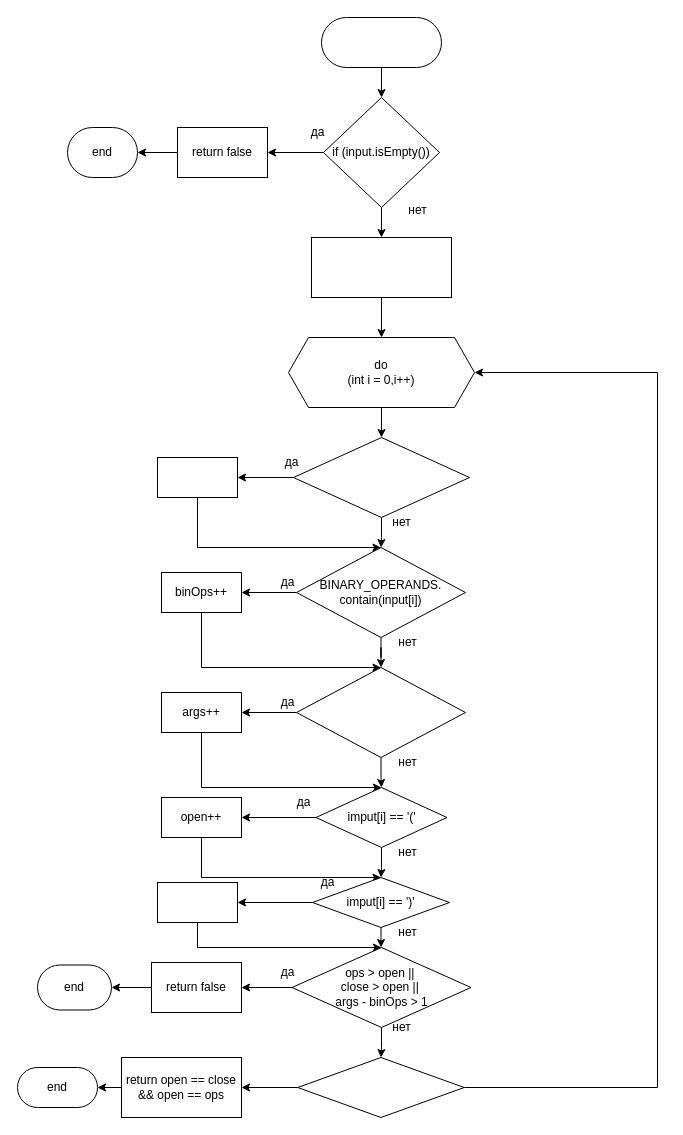
The diagram is 683 pixels wide and 1135 high, and some of its shapes have lost their labels. The shapes that lost their labels are listed below. From the top down, each one's centre as x and y in pixels, then its label:
(x=381, y=42): begin
(x=381, y=267): int open = 0, close = 0, ops = 0, binOps = 0, args = 0
(x=197, y=477): ops++
(x=381, y=477): ALL_OPERATORS. contain(input[i])
(x=381, y=712): ARGUMENTS. contain(input[i])
(x=197, y=902): close++
(x=380, y=1087): if (i < input.size())
